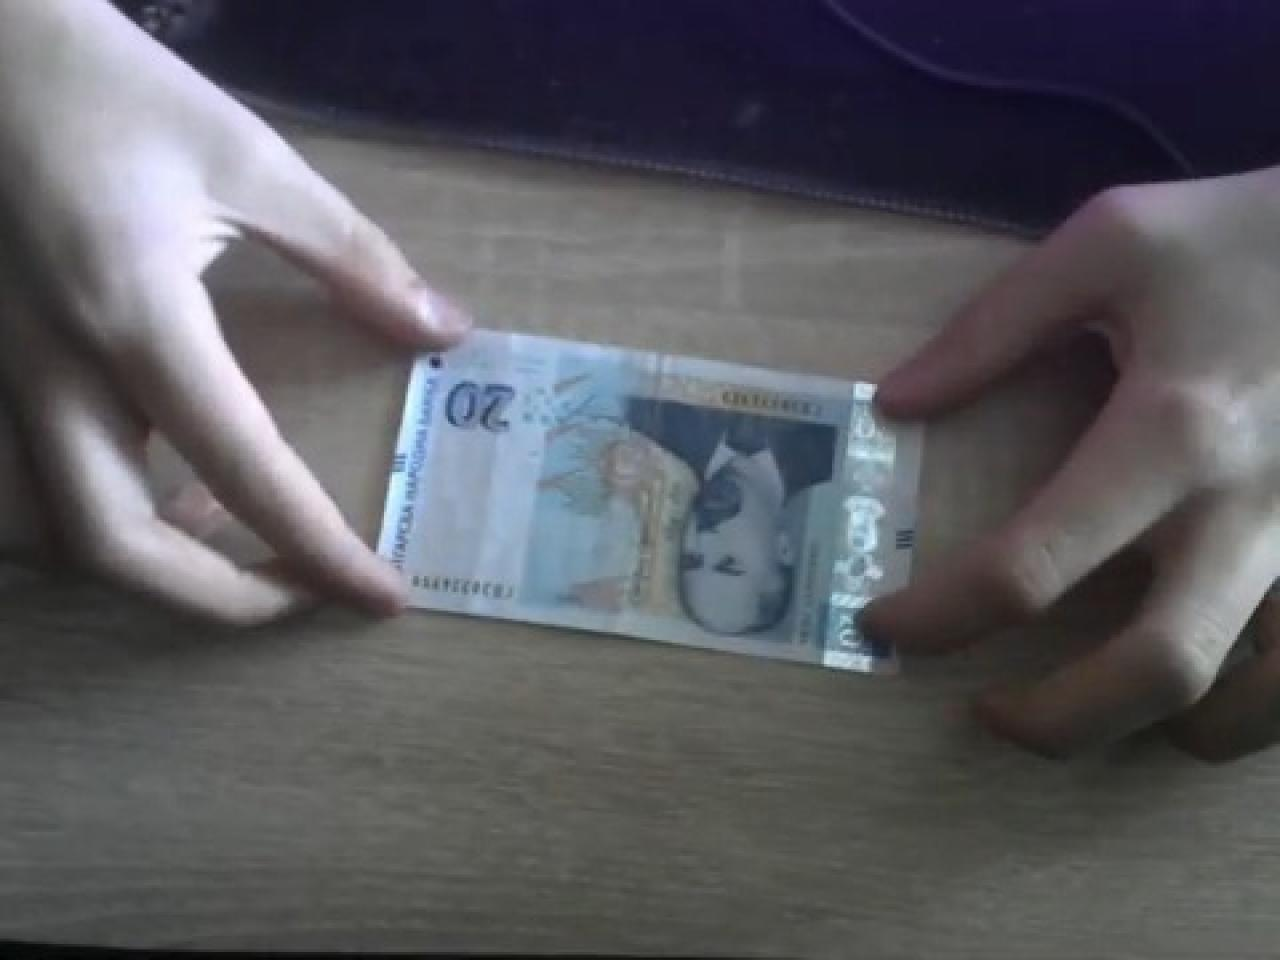20leva: (373, 331, 928, 670)
